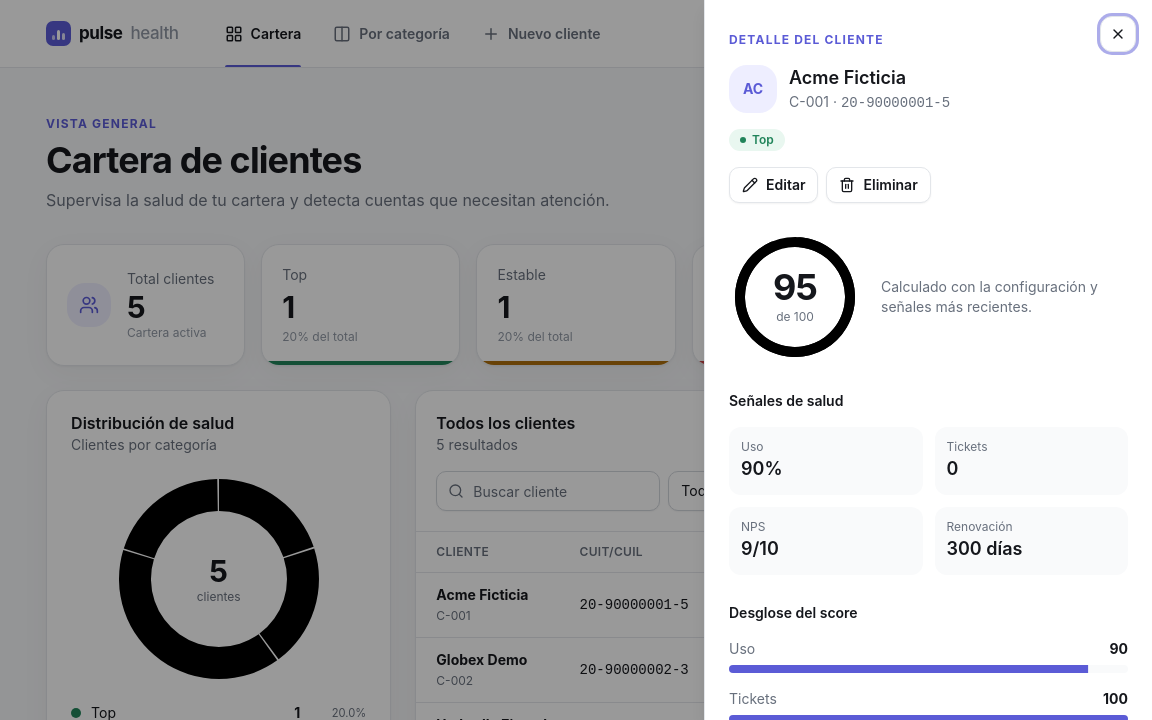
it: Editar cliente (US3, spec 004) › muestra el 422 de una métrica bajo esa métrica
The width and height of the screenshot is (1152, 720).
What coordinates should you click on to do the following:
click the button "Editar"
I would click on:
 (774, 185)
Its box is [729,167,818,203].
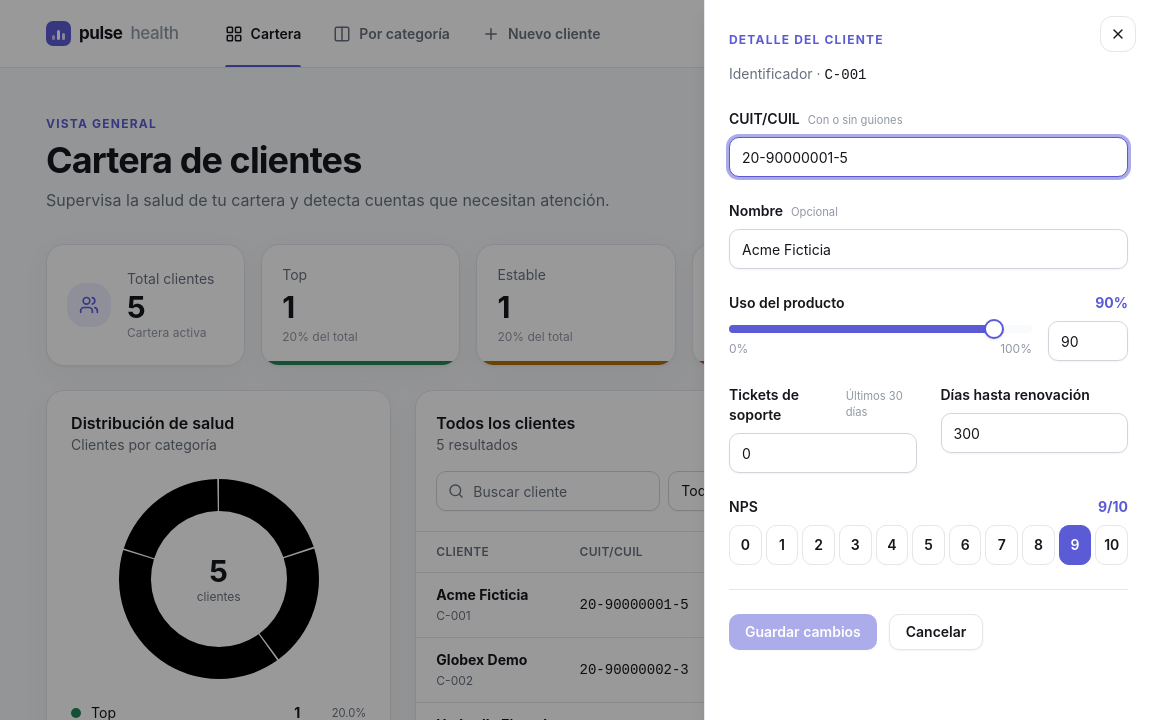
Now the field labelled "CUIT/CUIL" is shown, box [729,137,1128,177]
What coordinates should you click on to do the following:
click the radio button named "NPS 4"
I would click on:
 (892, 545)
Its box is [876,525,908,565].
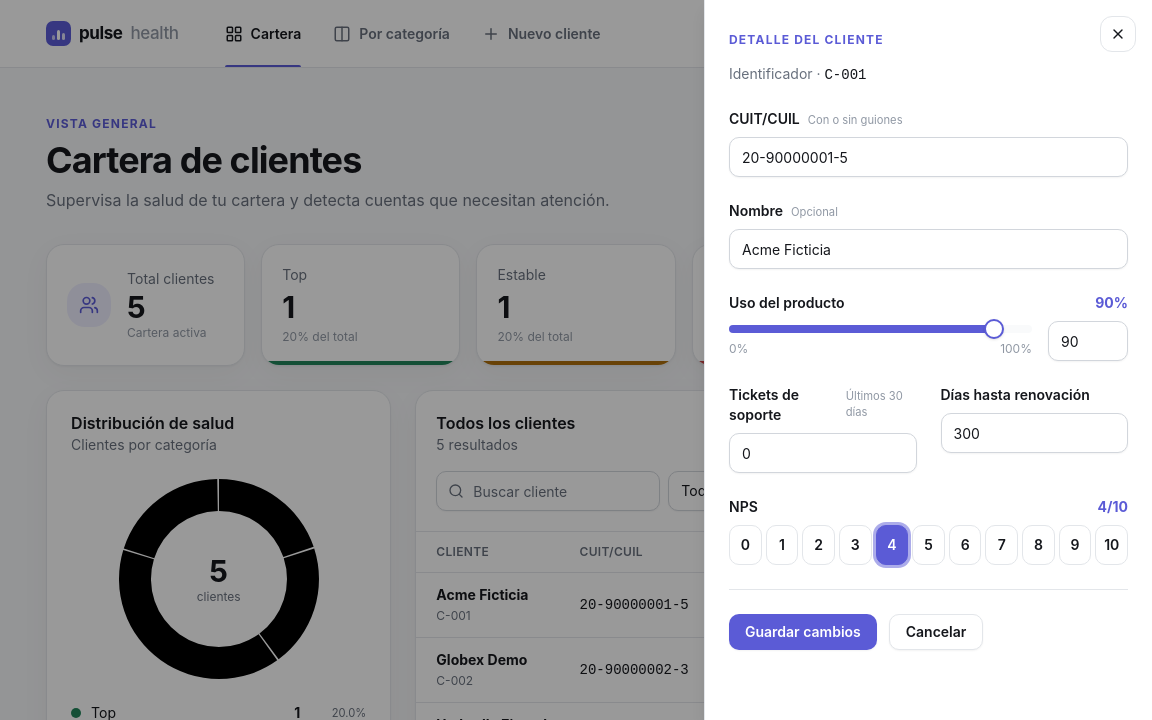
What coordinates should you click on to do the following:
click the button "Guardar cambios"
I would click on:
 (803, 632)
Its box is [729,614,877,650].
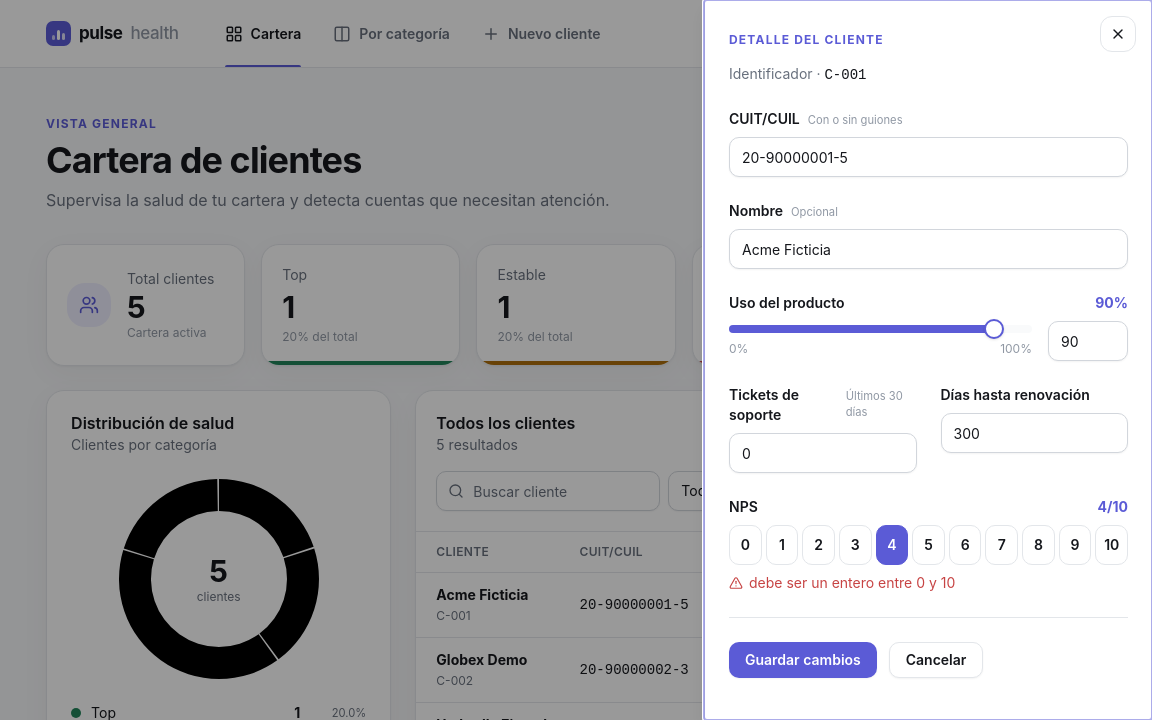
Now the text "debe ser un entero entre 0 y 10" is shown, box [729,574,955,591]
